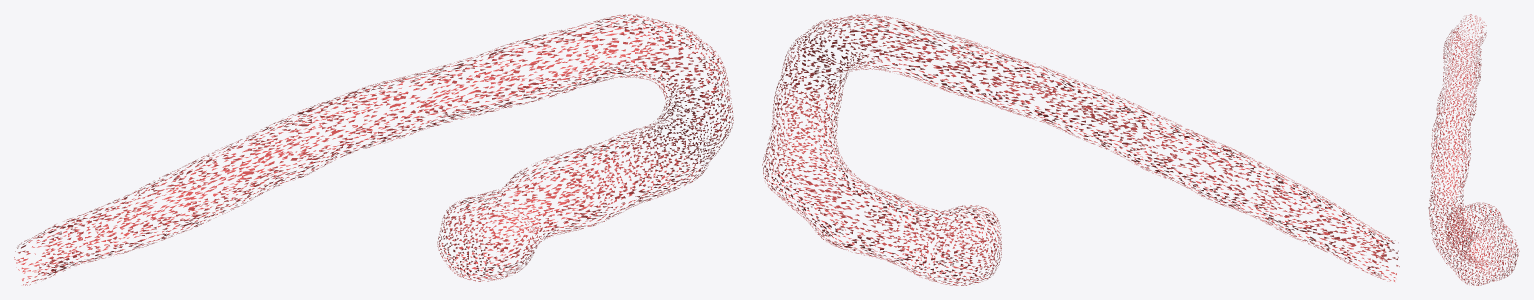
Rendered from aorta.glb.
3 renders of one model, left to right at view 1: azimuth 30°, elevation 25°; view 2: azimuth 150°, elevation 25°; view 3: azimuth 270°, elevation 25°, orthographic. The views are drawn at different scales.
Size of the model in its own units: 269 by 93.48 by 47.93.
